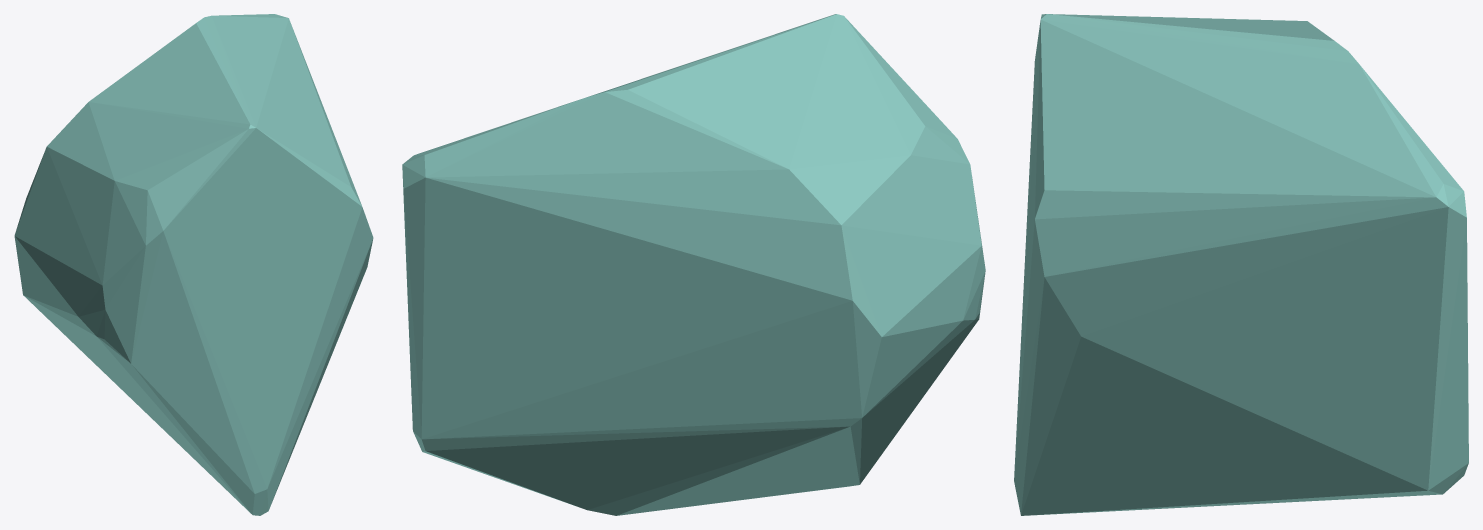
Rendered from kitchenware_kettle_c01.glb.
3 renders of one model, left to right at view 1: azimuth 30°, elevation 25°; view 2: azimuth 150°, elevation 25°; view 3: azimuth 270°, elevation 25°, orthographic. The views are drawn at different scales.
Visible parts, largest first — view 1: geometry_0; view 2: geometry_0; view 3: geometry_0.
Boxes of the visible parts, <box> form: geometry_0: <box>14,14,373,515</box>; geometry_0: <box>402,14,985,515</box>; geometry_0: <box>1014,14,1468,515</box>.
Bounding box in the file's own units: 0.4222 × 0.4796 × 0.3885.
